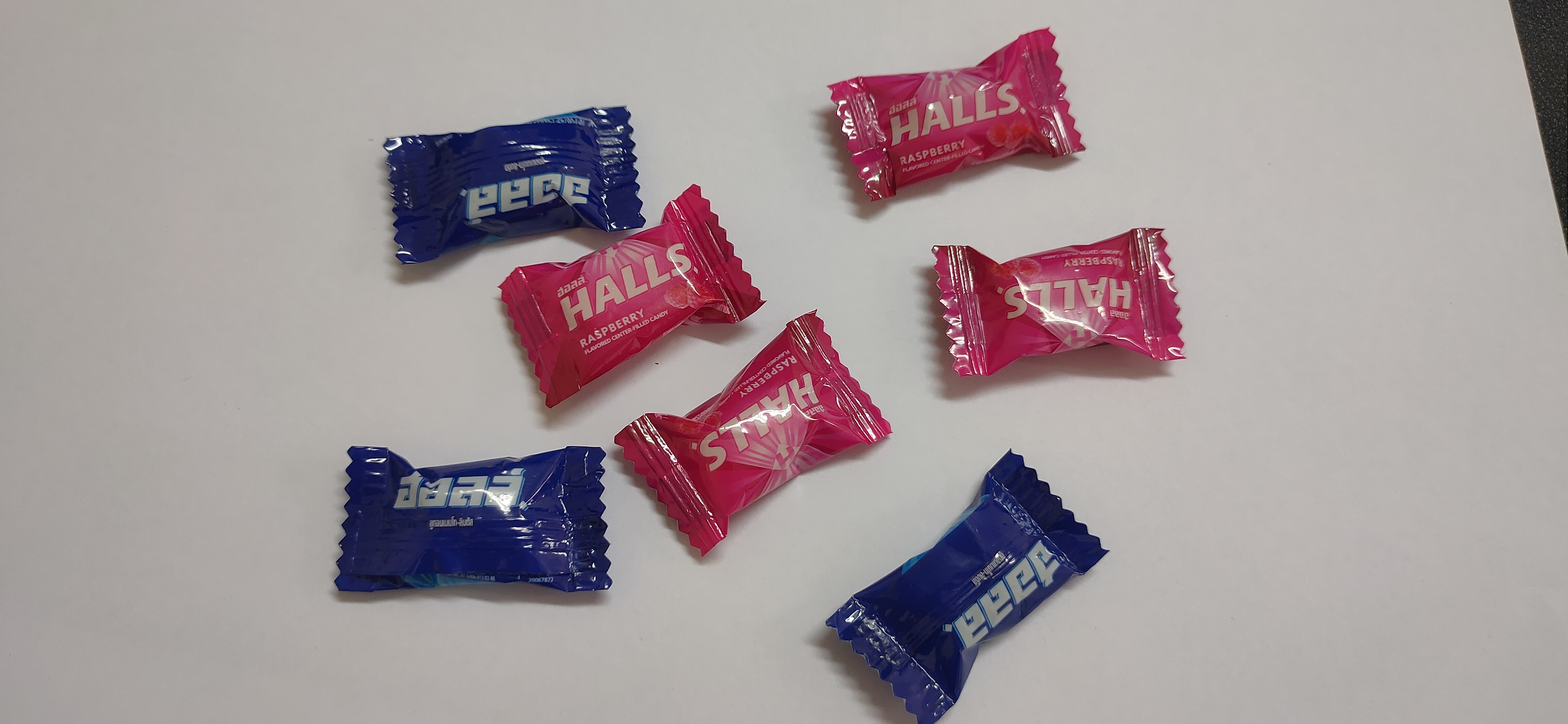plastic: (814, 426, 1141, 724), (592, 290, 921, 579), (480, 165, 796, 443), (330, 405, 665, 628), (374, 70, 668, 298), (811, 10, 1114, 222), (926, 190, 1212, 402)
